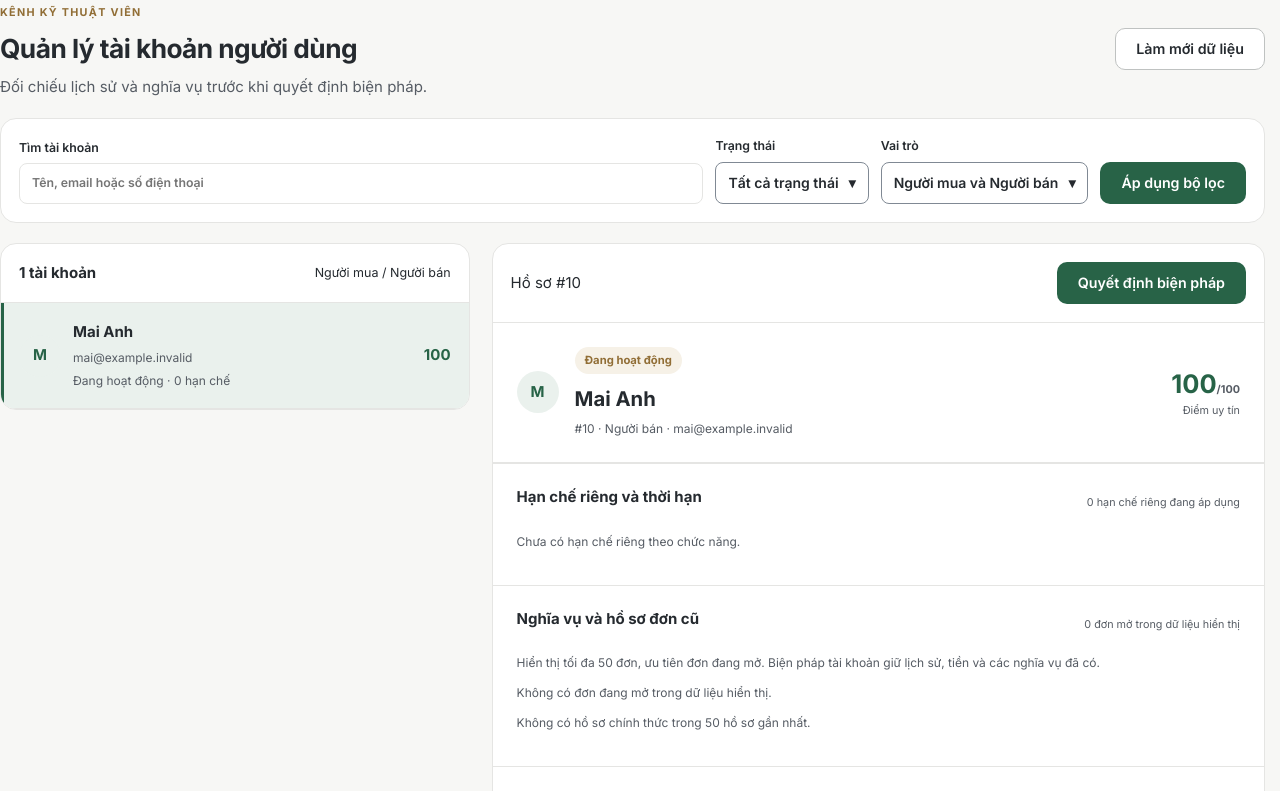
it: KTV account management › renders actual profile and asks for a decision without applying one implicitly
Expected: the heading "Mai Anh" is shown, [575,386,656,411]
Click the button "Quyết định biện pháp" at [1151, 283], box [1057,262,1246,304]
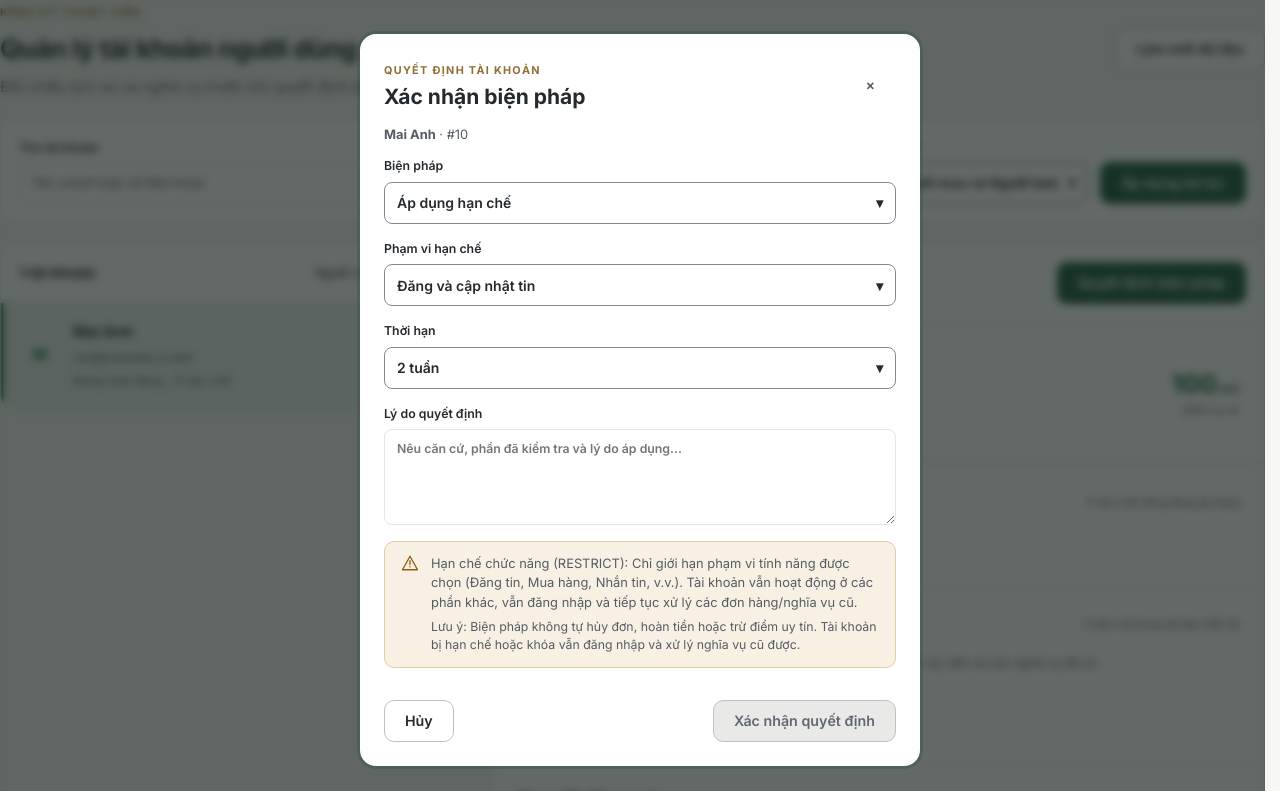
Result: the dialog is shown at [360,34,920,766]
